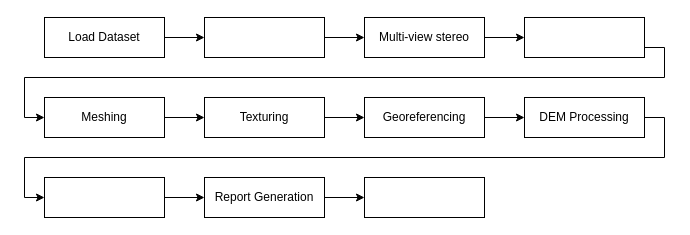
The diagram is 690 pixels wide and 235 high, and some of its shapes have lost their labels. Here are the shapes that lost their labels. From the top down, the centre of each, then its label:
the point at 264,37: Structure from motion
the point at 584,37: Point Filtering
the point at 104,197: Orthophoto Processing
the point at 424,197: Post Processing
